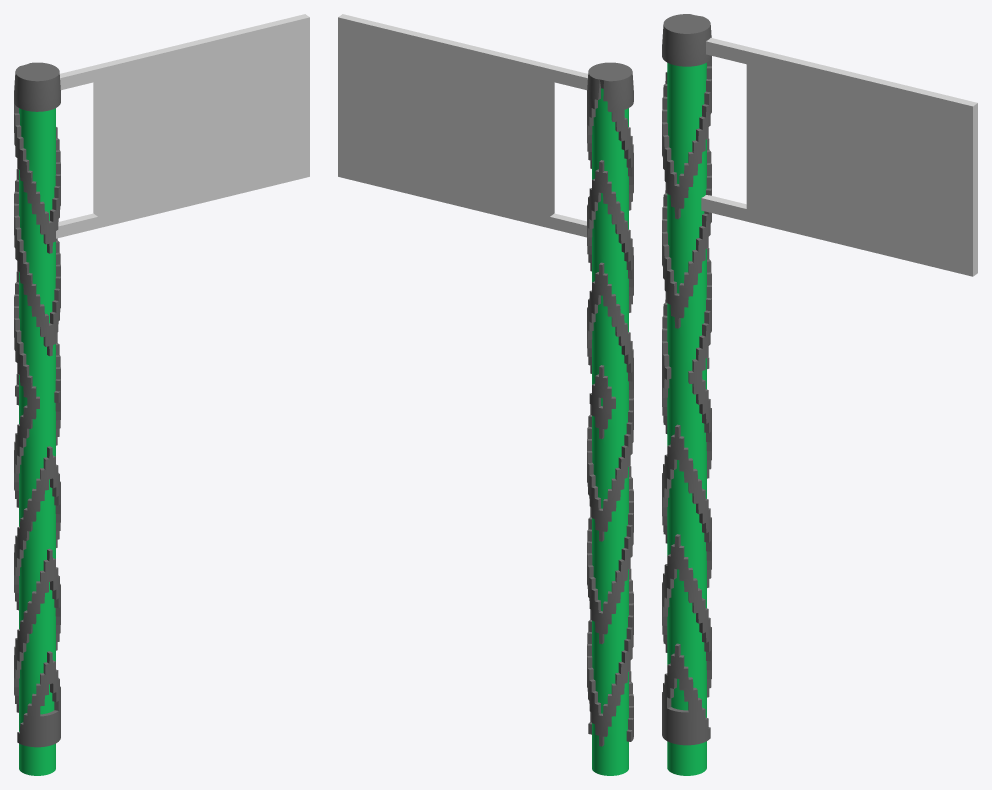
The model's file is FlagPole.fbx.
3 views of the same model, side by side, from view 1: azimuth 30°, elevation 25°; view 2: azimuth 150°, elevation 25°; view 3: azimuth 330°, elevation 25° (orthographic). The views are drawn at different scales.
Parts seen in each view (by area): view 1: Flag, Pole; view 2: Flag, Pole; view 3: Flag, Pole.
Boxes of the visible parts, box(x1,y1,x2,y2) form: Flag: box(56, 14, 309, 238); Pole: box(14, 62, 60, 775); Flag: box(338, 14, 588, 237); Pole: box(587, 62, 633, 775); Flag: box(701, 38, 977, 276); Pole: box(662, 14, 711, 775).
Bounding box in the file's own units: 5.75 × 13.17 × 0.8052.
